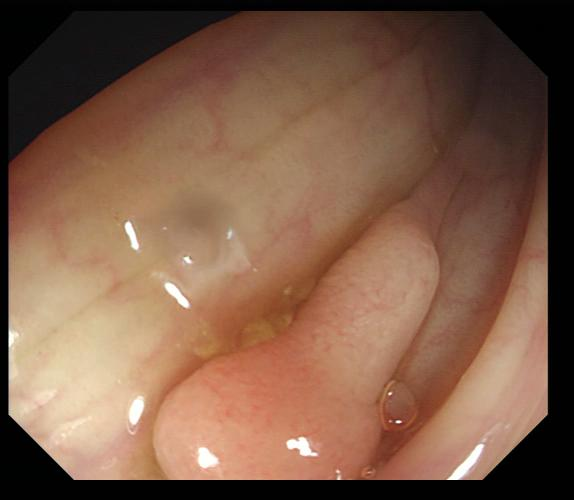polyp: (153, 216, 439, 479)
